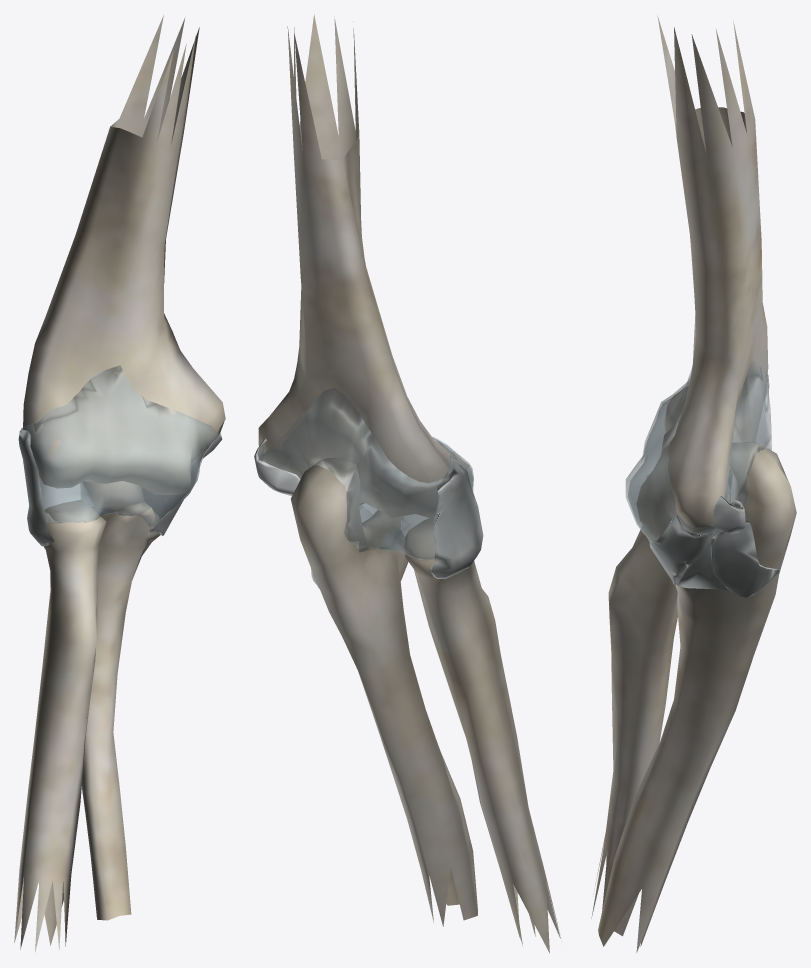
The model's file is elbow-joint.glb.
3 views of the same model, side by side, from view 1: azimuth 30°, elevation 25°; view 2: azimuth 150°, elevation 25°; view 3: azimuth 270°, elevation 25° (orthographic). The views are drawn at different scales.
Parts seen in each view (by area): view 1: Right_humerus, Right_radius, Right_joint_capsule_of_elbow_joint, Right_ulna, Right_radial_collateral_ligament_of_elbow, Right_anterior_portion_of_ulnar_collateral_ligament, Right_oblique_portion_of_ulnar_collateral_ligament; view 2: Right_humerus, Right_ulna, Right_radius, Right_joint_capsule_of_elbow_joint, Right_radial_collateral_ligament_of_elbow, Right_posterior_portion_of_ulnar_collateral_ligament; view 3: Right_humerus, Right_ulna, Right_radius, Right_joint_capsule_of_elbow_joint, Right_posterior_portion_of_ulnar_collateral_ligament, Right_anterior_portion_of_ulnar_collateral_ligament, Right_oblique_portion_of_ulnar_collateral_ligament.
Part boxes in pixels (x1,y1,x2,y2): Right_humerus: [23, 15, 225, 494]; Right_radius: [14, 500, 106, 952]; Right_joint_capsule_of_elbow_joint: [21, 365, 219, 527]; Right_ulna: [81, 481, 160, 920]; Right_radial_collateral_ligament_of_elbow: [18, 429, 54, 546]; Right_anterior_portion_of_ulnar_collateral_ligament: [149, 433, 222, 535]; Right_oblique_portion_of_ulnar_collateral_ligament: [142, 488, 174, 518]; Right_humerus: [258, 14, 469, 519]; Right_ulna: [291, 458, 477, 926]; Right_radius: [403, 518, 560, 953]; Right_joint_capsule_of_elbow_joint: [262, 387, 473, 560]; Right_radial_collateral_ligament_of_elbow: [429, 464, 483, 578]; Right_posterior_portion_of_ulnar_collateral_ligament: [254, 438, 319, 588]; Right_humerus: [636, 15, 768, 540]; Right_ulna: [598, 442, 796, 952]; Right_radius: [591, 475, 677, 917]; Right_joint_capsule_of_elbow_joint: [625, 360, 771, 542]; Right_posterior_portion_of_ulnar_collateral_ligament: [710, 496, 779, 597]; Right_anterior_portion_of_ulnar_collateral_ligament: [649, 516, 718, 584]; Right_oblique_portion_of_ulnar_collateral_ligament: [676, 541, 729, 590].
Size of the model in its own units: 0.0784 by 0.2617 by 0.0489.
8 materials, 8 textured.
